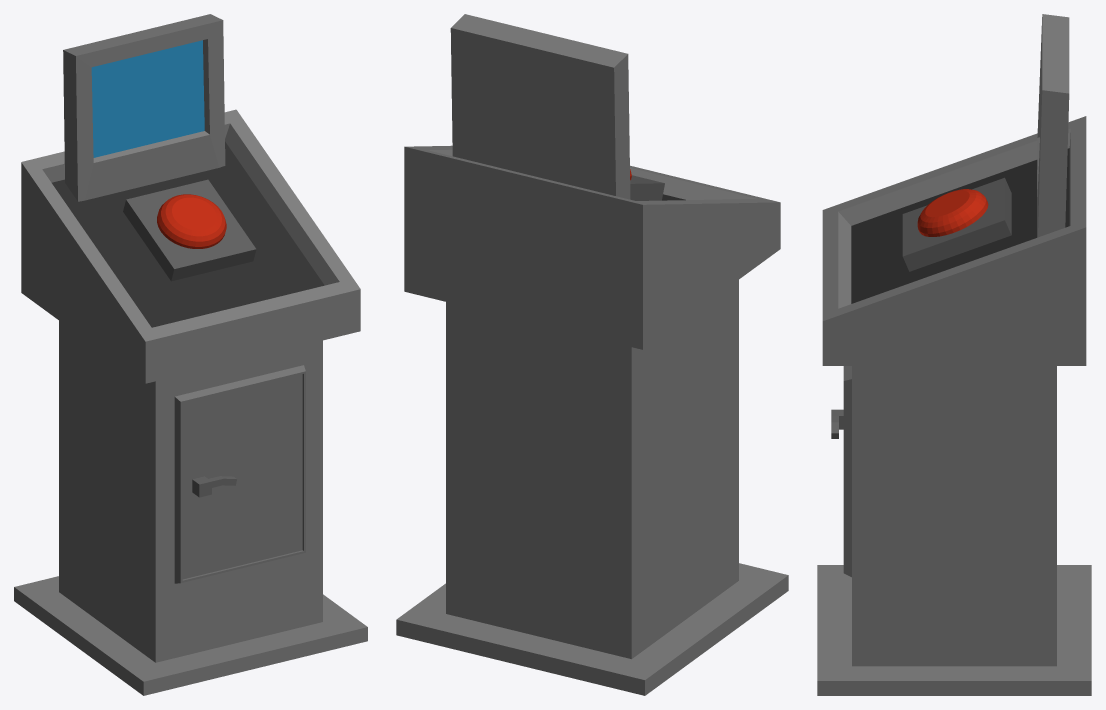
The model's file is ULTstand.fbx.
3 views of the same model, side by side, from view 1: azimuth 30°, elevation 25°; view 2: azimuth 150°, elevation 25°; view 3: azimuth 270°, elevation 25° (orthographic). The views are drawn at different scales.
Visible parts, largest first — view 1: Stand, Button; view 2: Stand; view 3: Stand, Button.
Part boxes in pixels (x1,y1,x2,y2): Stand: (14, 14, 367, 695); Button: (157, 194, 226, 248); Stand: (396, 14, 788, 695); Stand: (817, 14, 1091, 695); Button: (917, 189, 988, 236).
Bounding box in the file's own units: 200 × 471 × 200.
